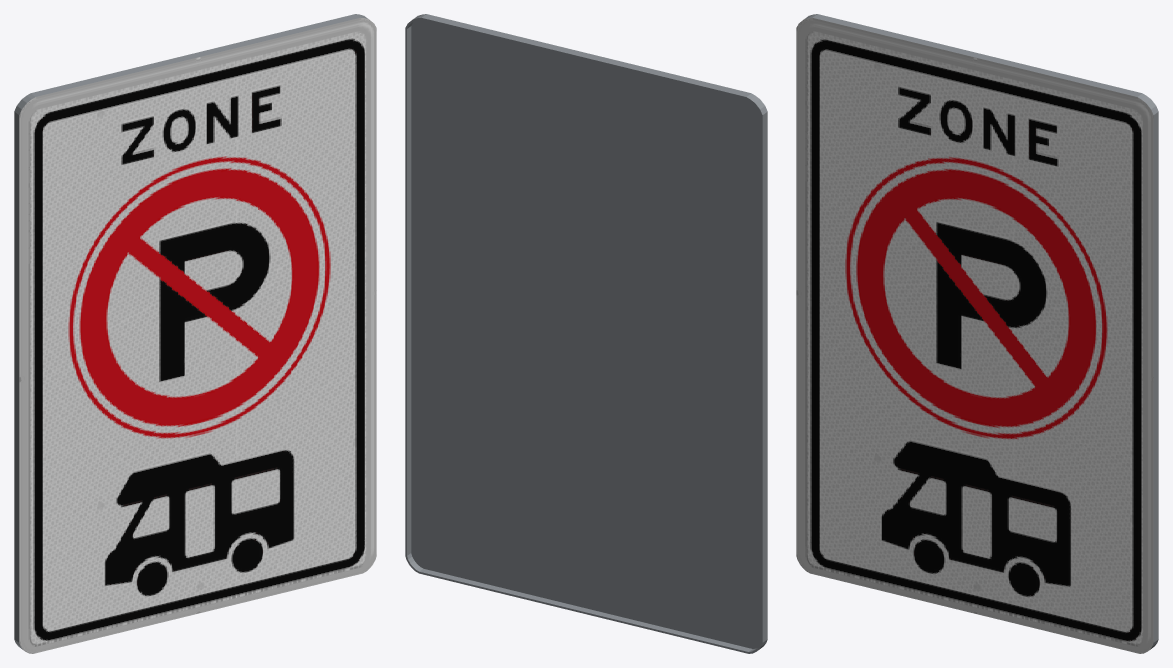
3 views of the same model, side by side, from view 1: azimuth 30°, elevation 25°; view 2: azimuth 150°, elevation 25°; view 3: azimuth 330°, elevation 25° (orthographic).
Parts seen in each view (by area): view 1: cat_35b60d1bbe170f9b; view 2: cat_35b60d1bbe170f9b; view 3: cat_35b60d1bbe170f9b.
Boxes of the visible parts, x1,y1,x2,y2 form: cat_35b60d1bbe170f9b: [14, 14, 376, 653]; cat_35b60d1bbe170f9b: [405, 14, 767, 653]; cat_35b60d1bbe170f9b: [796, 14, 1158, 653].
Size of the model in its own units: 0.6 by 0.015 by 0.8927.
2 materials, 1 textured.
